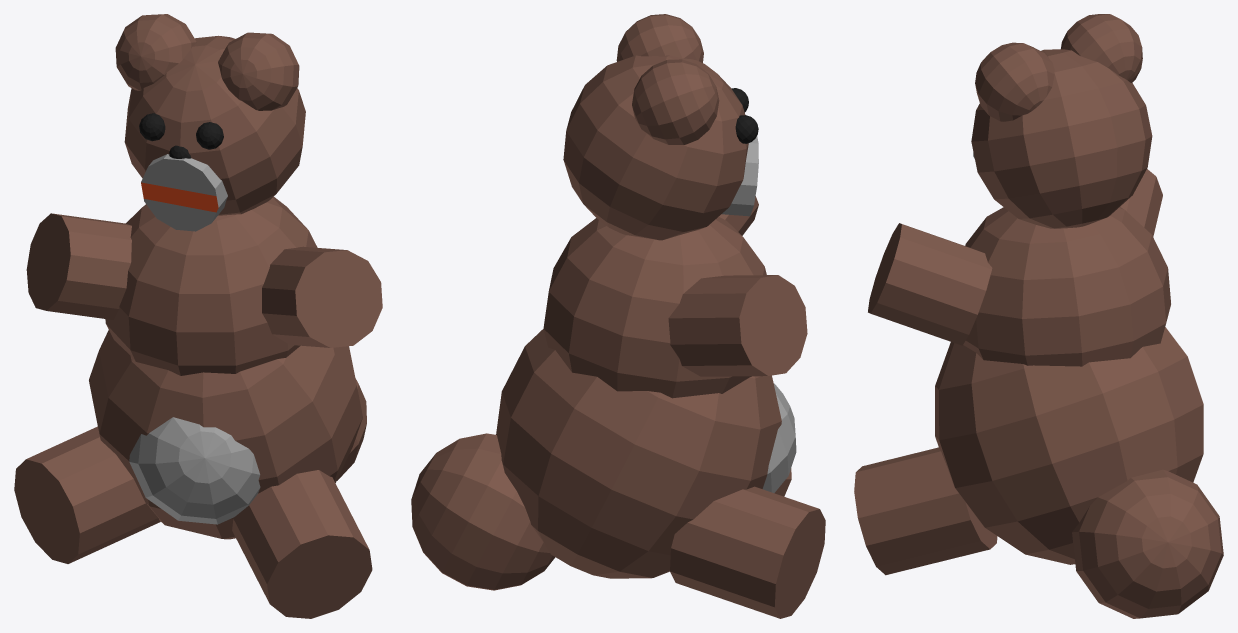
3 views of the same model, side by side, from view 1: azimuth 30°, elevation 25°; view 2: azimuth 150°, elevation 25°; view 3: azimuth 270°, elevation 25° (orthographic). The views are drawn at different scales.
Parts seen in each view (by area): view 1: mesh_1628650981, mesh_1568757642, mesh_1461336985, mesh_302545051, mesh_708793299, mesh_565796389, mesh_1367908757, mesh_871053470, mesh_1077391995, mesh_818755390, mesh_194482594, mesh_1553976825 (+2 smaller); view 2: mesh_1628650981, mesh_1568757642, mesh_1461336985, mesh_1553976825, mesh_708793299, mesh_871053470, mesh_194482594, mesh_818755390, mesh_1367908757, mesh_1077391995; view 3: mesh_1628650981, mesh_1568757642, mesh_1461336985, mesh_1553976825, mesh_302545051, mesh_565796389, mesh_818755390, mesh_194482594, mesh_871053470.
Part boxes in pixels (x1=…): mesh_1628650981: x1=89, y1=330, x2=362, y2=539; mesh_1568757642: x1=105, y1=196, x2=317, y2=375; mesh_1461336985: x1=124, y1=35, x2=305, y2=215; mesh_302545051: x1=232, y1=470, x2=372, y2=618; mesh_708793299: x1=14, y1=426, x2=160, y2=563; mesh_565796389: x1=262, y1=246, x2=382, y2=347; mesh_1367908757: x1=129, y1=417, x2=260, y2=524; mesh_871053470: x1=26, y1=213, x2=131, y2=319; mesh_1077391995: x1=141, y1=154, x2=227, y2=231; mesh_818755390: x1=218, y1=32, x2=299, y2=110; mesh_194482594: x1=115, y1=14, x2=196, y2=90; mesh_1553976825: x1=337, y1=378, x2=366, y2=480; mesh_1628650981: x1=496, y1=329, x2=781, y2=578; mesh_1568757642: x1=543, y1=216, x2=766, y2=398; mesh_1461336985: x1=563, y1=55, x2=748, y2=240; mesh_1553976825: x1=411, y1=433, x2=555, y2=590; mesh_708793299: x1=670, y1=486, x2=825, y2=618; mesh_871053470: x1=668, y1=275, x2=807, y2=376; mesh_194482594: x1=632, y1=59, x2=719, y2=144; mesh_818755390: x1=616, y1=14, x2=703, y2=62; mesh_1367908757: x1=762, y1=383, x2=796, y2=492; mesh_1077391995: x1=721, y1=136, x2=758, y2=216; mesh_1628650981: x1=935, y1=327, x2=1203, y2=564; mesh_1568757642: x1=963, y1=207, x2=1170, y2=366; mesh_1461336985: x1=971, y1=49, x2=1152, y2=228; mesh_1553976825: x1=1072, y1=469, x2=1223, y2=618; mesh_302545051: x1=854, y1=447, x2=997, y2=575; mesh_565796389: x1=868, y1=223, x2=992, y2=345; mesh_818755390: x1=975, y1=42, x2=1054, y2=121; mesh_194482594: x1=1061, y1=14, x2=1142, y2=82; mesh_871053470: x1=1120, y1=169, x2=1162, y2=236.
Bounding box in the file's own units: 28.19 × 41.62 × 26.38.
